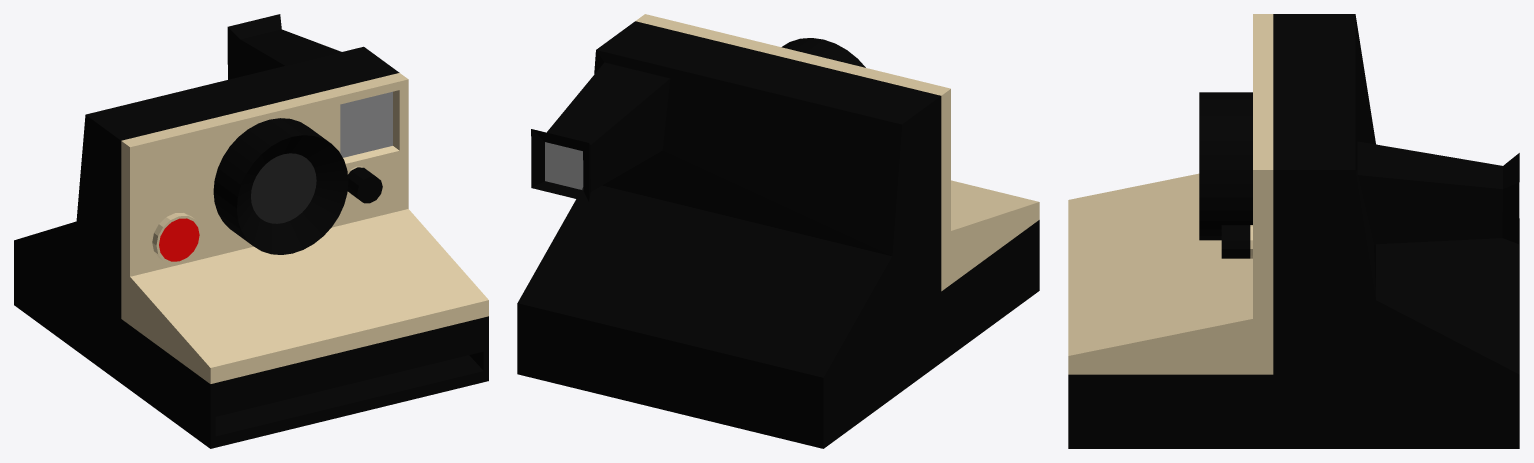
The model's file is insta-camera.glb.
3 renders of one model, left to right at view 1: azimuth 30°, elevation 25°; view 2: azimuth 150°, elevation 25°; view 3: azimuth 270°, elevation 25°, orthographic. The views are drawn at different scales.
Parts seen in each view (by area): view 1: Cube; view 2: Cube; view 3: Cube.
Part boxes in pixels (left/top/right/bottom): Cube: left=14, top=14, right=488, bottom=448; Cube: left=517, top=14, right=1039, bottom=448; Cube: left=1068, top=14, right=1519, bottom=448.
Bounding box in the file's own units: 1.8 × 1.5 × 2.2.
